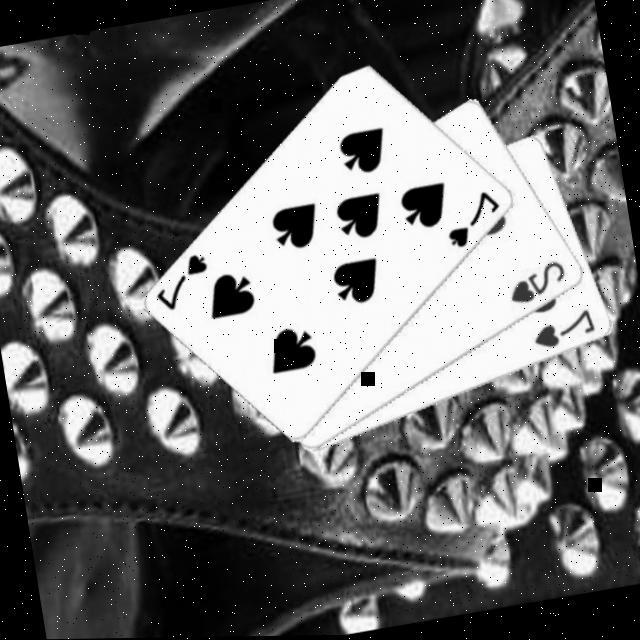2H: (502, 259, 572, 313)
7H: (527, 309, 600, 358)
7S: (438, 188, 508, 256), (146, 250, 216, 318)
